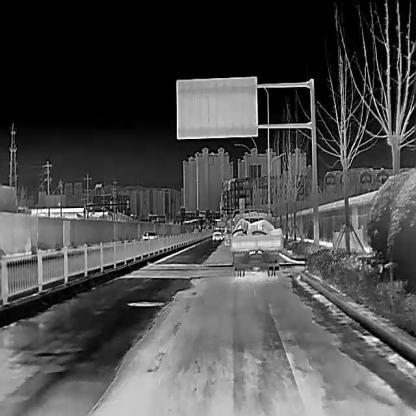car: (230, 208, 282, 276), (141, 229, 157, 240), (223, 226, 231, 246), (212, 228, 222, 240)
